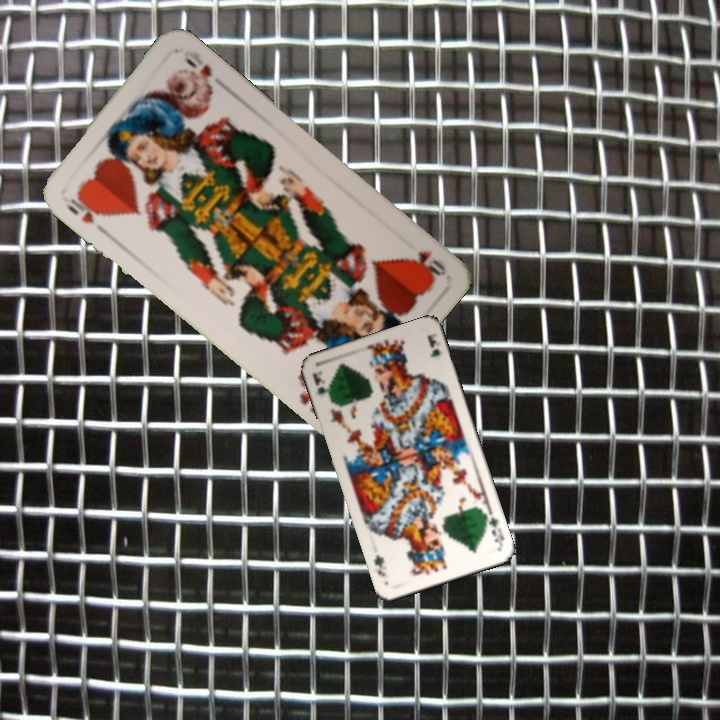GK: (479, 508, 507, 548), (308, 367, 335, 405)
HO: (63, 189, 108, 227), (407, 246, 449, 281)
